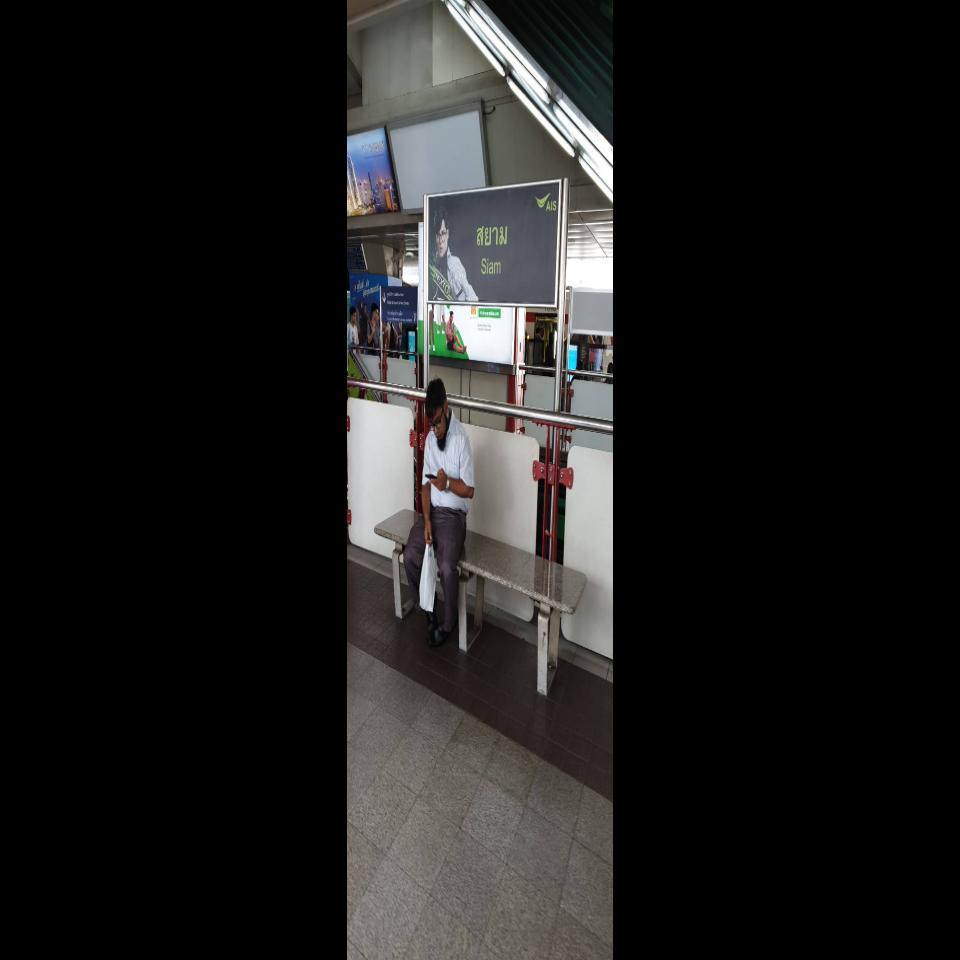signage: (425, 177, 563, 311)
